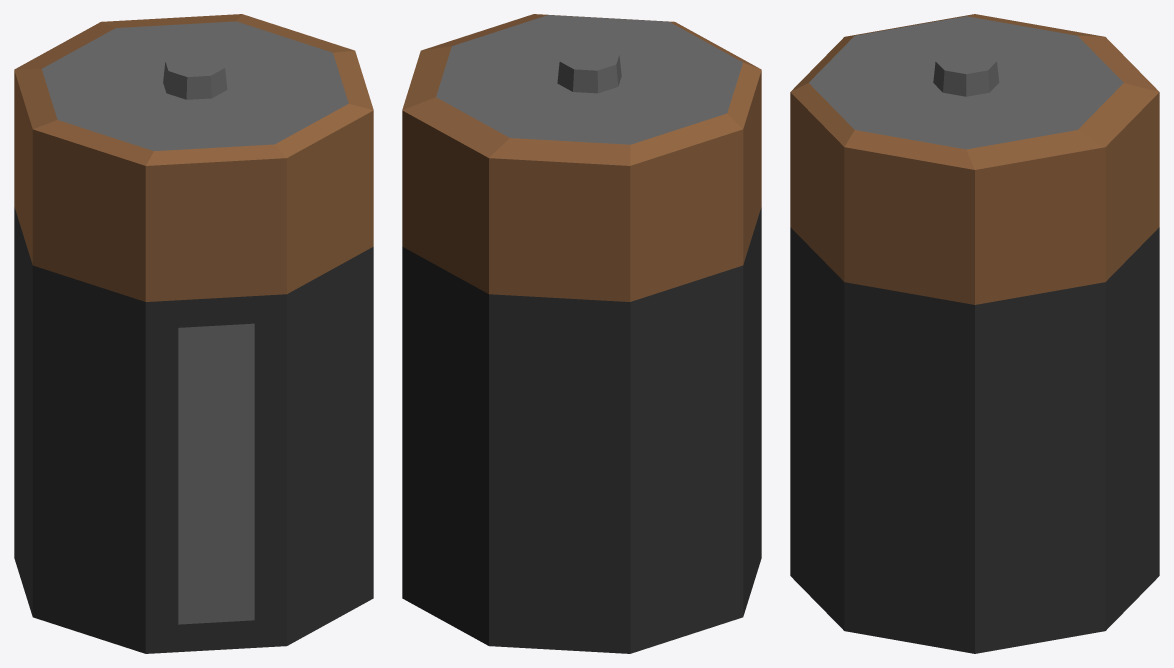
The model's file is Battery Big.glb.
3 renders of one model, left to right at view 1: azimuth 30°, elevation 25°; view 2: azimuth 150°, elevation 25°; view 3: azimuth 270°, elevation 25°, orthographic.
Visible parts, largest first — view 1: Battery_Big; view 2: Battery_Big; view 3: Battery_Big.
Part boxes in pixels (x1,y1,x2,y2): Battery_Big: (14, 14, 373, 653); Battery_Big: (402, 14, 761, 653); Battery_Big: (790, 14, 1159, 653).
Size of the model in its own units: 0.075 by 0.115 by 0.075.
